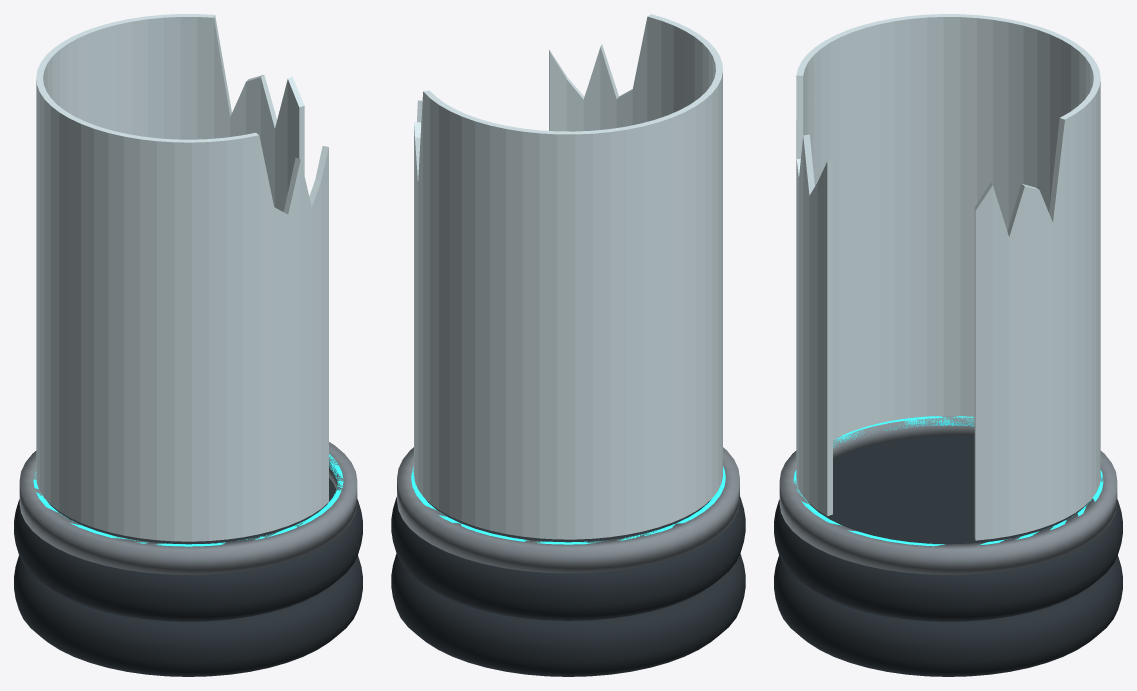
The model's file is ZH_PROP_LAB_SampleJar_Broken.fbx.
3 renders of one model, left to right at view 1: azimuth 30°, elevation 25°; view 2: azimuth 150°, elevation 25°; view 3: azimuth 270°, elevation 25°, orthographic.
Parts seen in each view (by area): view 1: Jar | broken glass shell.001, Jar | base ring.004, Jar | base ring.005, Jar | base lip.002, Jar | indicator.002; view 2: Jar | broken glass shell.001, Jar | base ring.004, Jar | base ring.005, Jar | base lip.002, Jar | indicator.002; view 3: Jar | broken glass shell.001, Jar | base ring.005, Jar | base ring.004, Jar | base lip.002, Jar | indicator.002.
Boxes of the visible parts, bbox=[...] form: Jar | broken glass shell.001: bbox=[36, 14, 328, 541]; Jar | base ring.004: bbox=[14, 555, 362, 676]; Jar | base ring.005: bbox=[14, 478, 362, 621]; Jar | base lip.002: bbox=[19, 442, 357, 574]; Jar | indicator.002: bbox=[33, 454, 343, 546]; Jar | broken glass shell.001: bbox=[414, 14, 722, 539]; Jar | base ring.004: bbox=[391, 553, 745, 676]; Jar | base ring.005: bbox=[391, 497, 745, 620]; Jar | base lip.002: bbox=[397, 447, 739, 573]; Jar | indicator.002: bbox=[411, 466, 725, 544]; Jar | broken glass shell.001: bbox=[796, 14, 1100, 540]; Jar | base ring.005: bbox=[774, 435, 1122, 621]; Jar | base ring.004: bbox=[774, 555, 1122, 676]; Jar | base lip.002: bbox=[779, 416, 1117, 574]; Jar | indicator.002: bbox=[793, 416, 1103, 546].
Bounding box in the file's own units: 0.126 × 0.2125 × 0.126.
